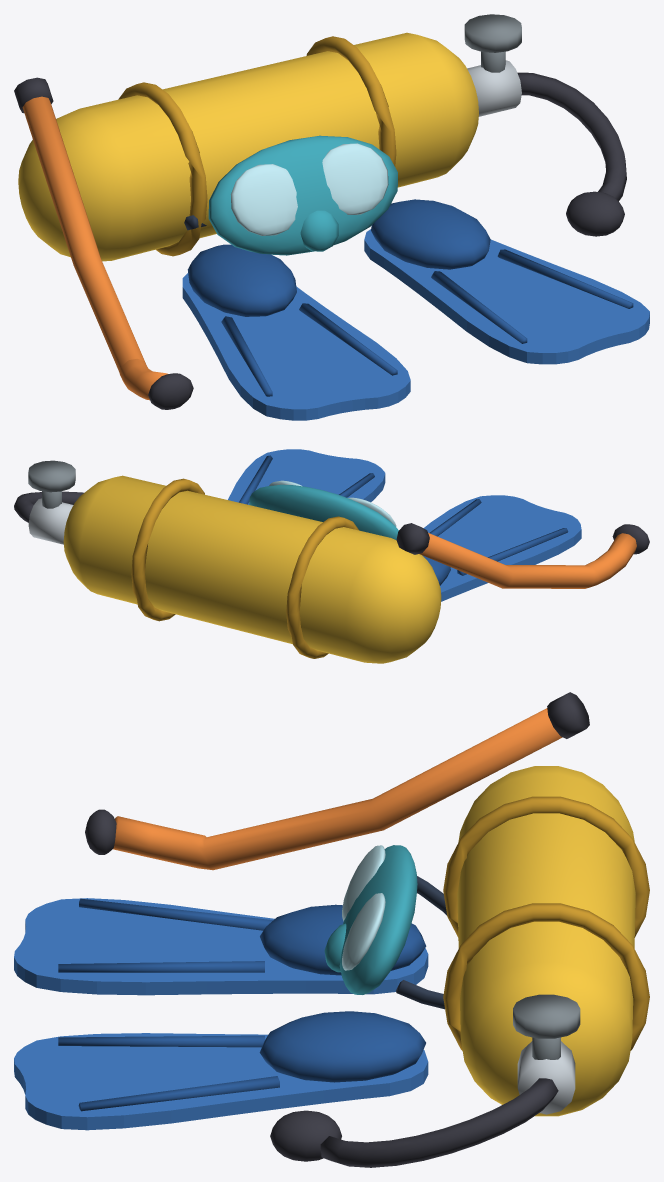
Rendered from tool-scuba-kit.glb.
3 renders of one model, top to bottom at view 1: azimuth 30°, elevation 25°; view 2: azimuth 150°, elevation 25°; view 3: azimuth 270°, elevation 25°, orthographic. The views are drawn at different scales.
Visible parts, largest first — view 1: tool; view 2: tool; view 3: tool.
Part boxes in pixels (x1,y1,x2,y2): tool: (14,14,649,420); tool: (14,449,649,663); tool: (14,692,649,1167).
Bounding box in the file's own units: 0.676 × 0.204 × 0.529.
